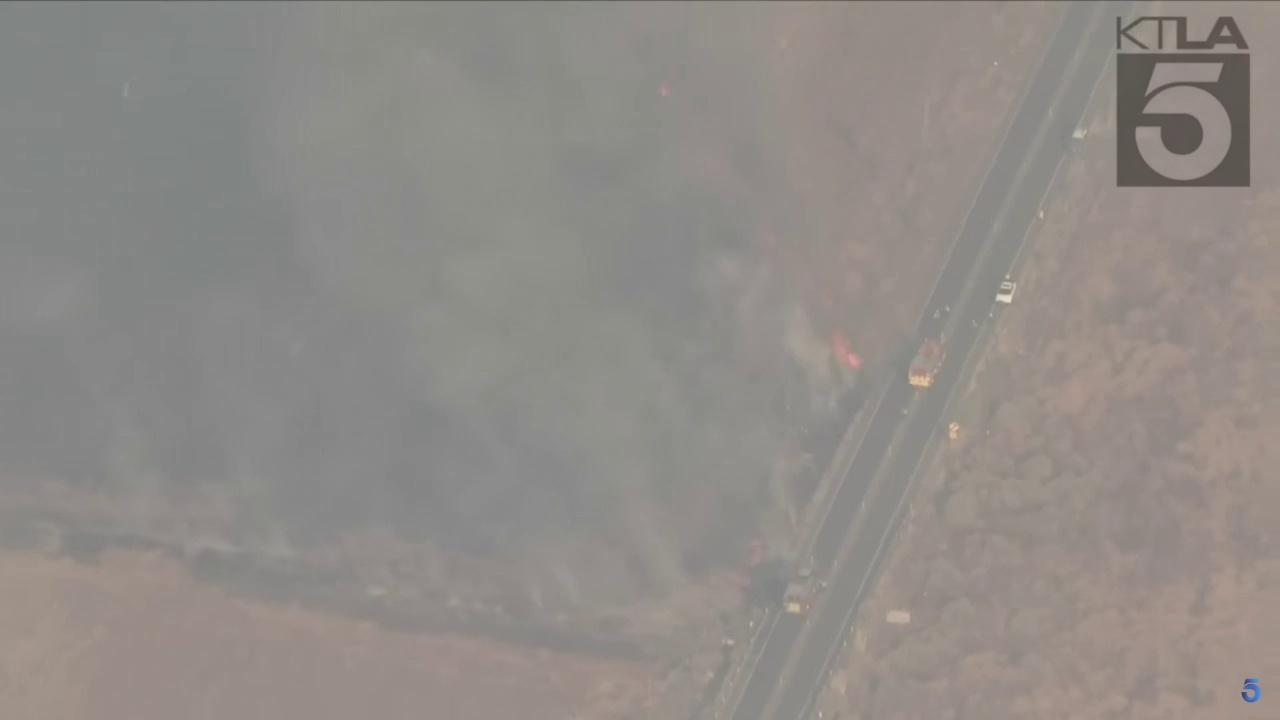fire: (828, 332, 865, 370)
smoke: (0, 0, 863, 614)
